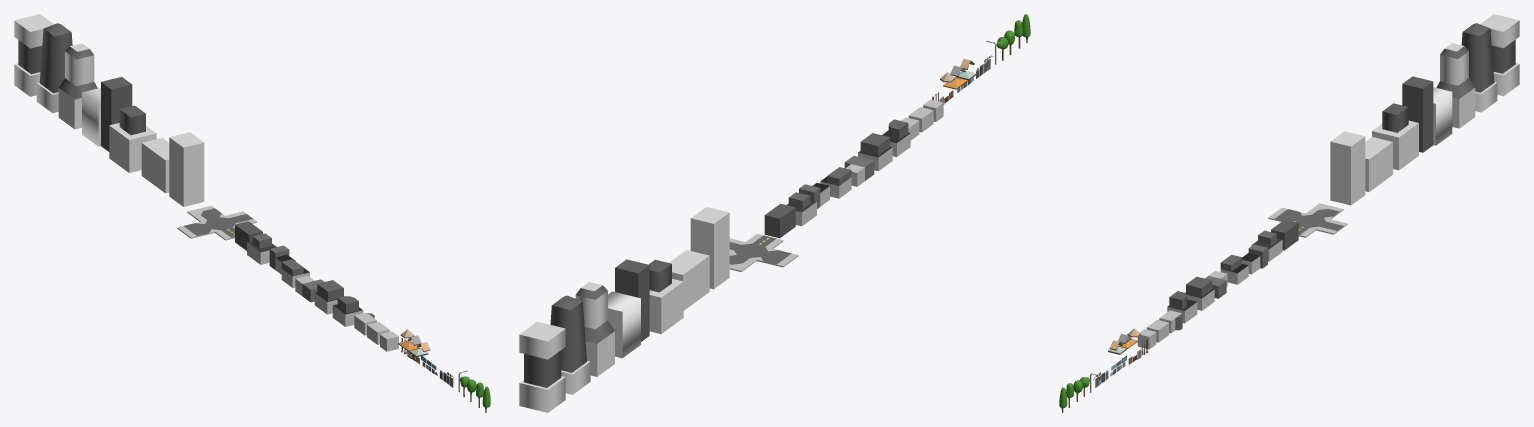
The model's file is CitttyMakerSuperPack.fbx.
The picture shows the model from 3 angles, left to right: view 1: azimuth 30°, elevation 25°; view 2: azimuth 150°, elevation 25°; view 3: azimuth 330°, elevation 25°; orthographic projection. The views are drawn at different scales.
Parts seen in each view (by area): view 1: Building(1), Building(4), Building(5), Building(6), Building(3), Building(7), Building(2), Home(5), Home(4), Home(9), Home(7), Home(10) (+1 smaller); view 2: Building(7), Building(4), Building(6), Building(5), Building(1), Building(3), Building(2), Home(5), Home(10), Home(4), Home(9), Home(7) (+3 smaller); view 3: Building(4), Building(1), Building(5), Building(6), Building(7), Building(3), Building(2), Home(5), Home(7), Home(4), Home(10), Home(8) (+1 smaller).
Boxes of the visible parts, x1=… form: Building(1): x1=169, y1=132, x2=204, y2=206; Building(4): x1=82, y1=77, x2=132, y2=151; Building(5): x1=58, y1=43, x2=97, y2=129; Building(6): x1=36, y1=23, x2=72, y2=113; Building(3): x1=109, y1=105, x2=156, y2=172; Building(7): x1=14, y1=14, x2=53, y2=96; Building(2): x1=141, y1=138, x2=169, y2=193; Home(5): x1=314, y1=280, x2=343, y2=314; Home(4): x1=332, y1=296, x2=363, y2=326; Home(9): x1=247, y1=233, x2=276, y2=264; Home(7): x1=281, y1=259, x2=309, y2=287; Home(10): x1=235, y1=221, x2=262, y2=250; Building(7): x1=519, y1=321, x2=565, y2=412; Building(4): x1=608, y1=259, x2=649, y2=358; Building(6): x1=550, y1=295, x2=590, y2=394; Building(5): x1=575, y1=282, x2=614, y2=376; Building(1): x1=690, y1=207, x2=729, y2=289; Building(3): x1=649, y1=259, x2=683, y2=333; Building(2): x1=669, y1=250, x2=709, y2=310; Home(5): x1=858, y1=133, x2=892, y2=171; Home(10): x1=764, y1=203, x2=795, y2=238; Home(4): x1=882, y1=119, x2=910, y2=156; Home(9): x1=787, y1=192, x2=816, y2=226; Home(7): x1=820, y1=167, x2=851, y2=198; Building(4): x1=1402, y1=76, x2=1452, y2=152; Building(1): x1=1330, y1=131, x2=1365, y2=205; Building(5): x1=1436, y1=43, x2=1475, y2=128; Building(6): x1=1461, y1=23, x2=1497, y2=112; Building(7): x1=1480, y1=14, x2=1519, y2=96; Building(3): x1=1372, y1=103, x2=1418, y2=170; Building(2): x1=1365, y1=137, x2=1392, y2=191; Home(5): x1=1185, y1=276, x2=1214, y2=310; Home(7): x1=1220, y1=254, x2=1248, y2=284; Home(4): x1=1167, y1=291, x2=1197, y2=323; Home(10): x1=1271, y1=219, x2=1298, y2=250; Home(8): x1=1242, y1=244, x2=1267, y2=274.
Size of the model in its own units: 1100 by 1320 by 13138.
